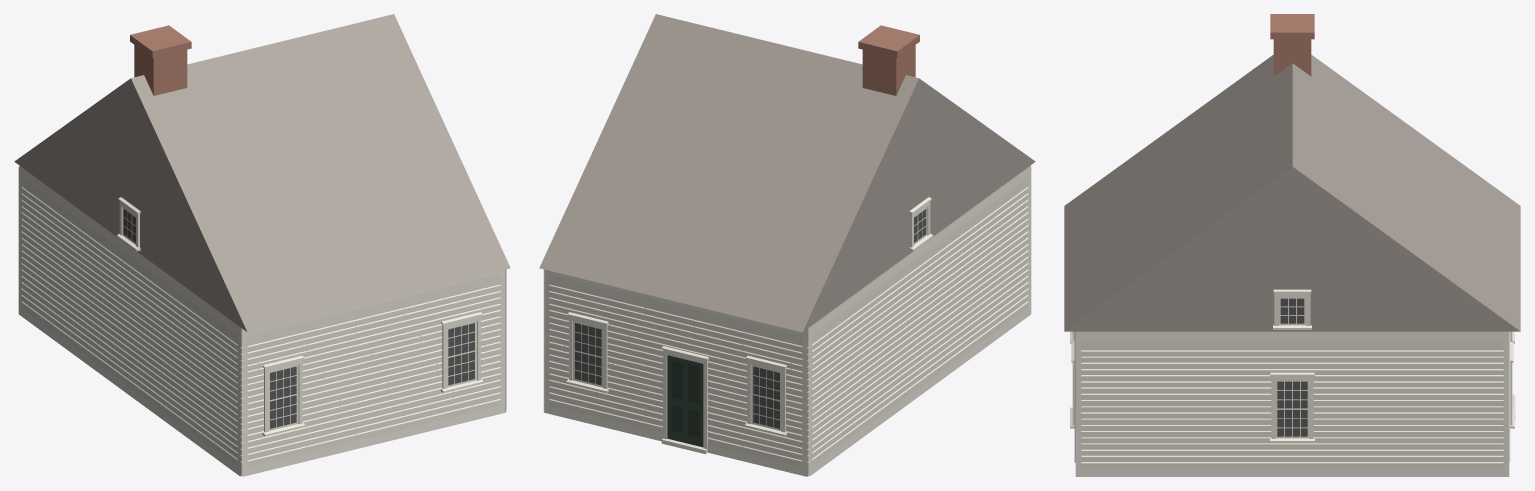
The model's file is recon_1835_south_d6_031__inferred_1835.glb.
3 views of the same model, side by side, from view 1: azimuth 30°, elevation 25°; view 2: azimuth 150°, elevation 25°; view 3: azimuth 270°, elevation 25° (orthographic). The views are drawn at different scales.
Visible parts, largest first — view 1: recon_1835_south_d6_031__inferred_1835; view 2: recon_1835_south_d6_031__inferred_1835; view 3: recon_1835_south_d6_031__inferred_1835.
Boxes of the visible parts, x1,y1,x2,y2 form: recon_1835_south_d6_031__inferred_1835: (14,14,510,476); recon_1835_south_d6_031__inferred_1835: (539,14,1035,476); recon_1835_south_d6_031__inferred_1835: (1064,14,1520,476).
Size of the model in its own units: 6.83 by 8.37 by 10.13.
